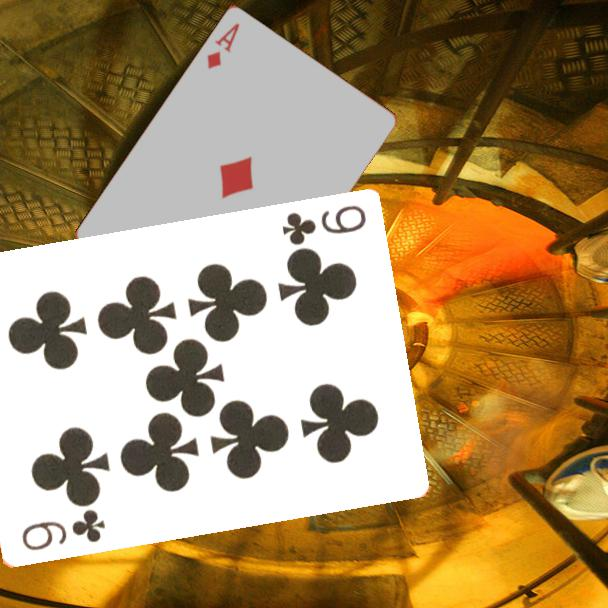c09: (278, 202, 369, 249), (18, 507, 108, 554)
d01: (203, 19, 242, 72)
